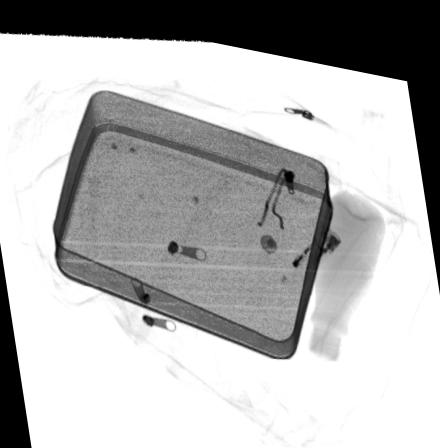Lighter: (276, 210, 342, 283)
